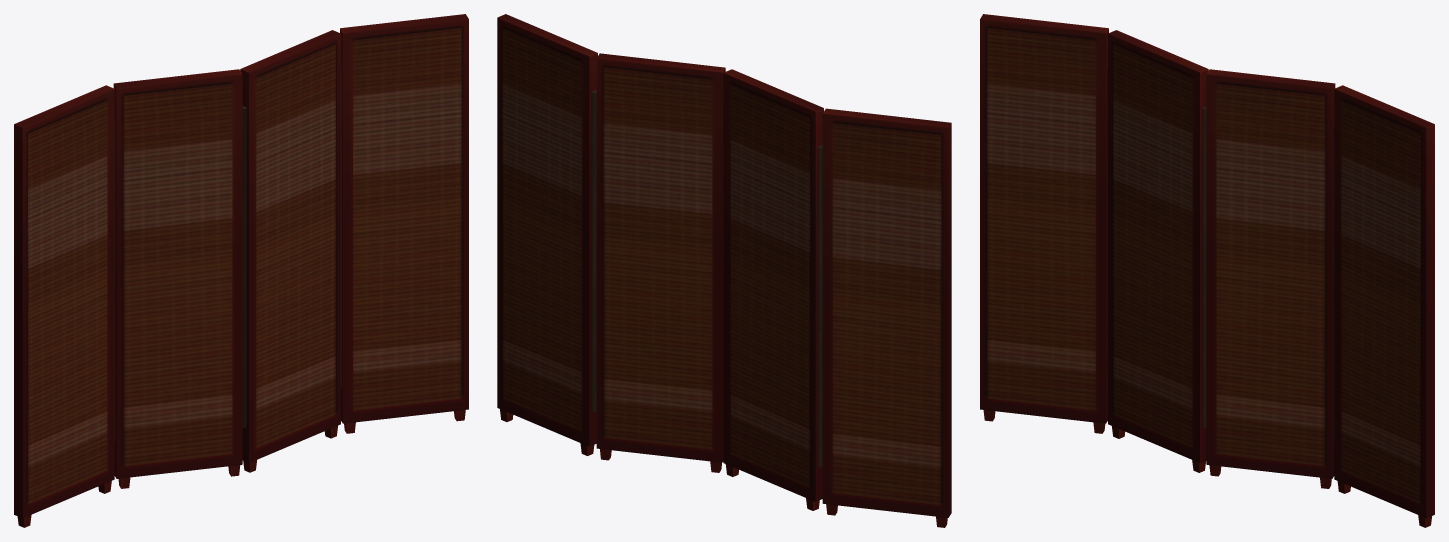
The model's file is daliang_field_a_s05d.fbx.
The picture shows the model from 3 angles, left to right: view 1: azimuth 30°, elevation 25°; view 2: azimuth 150°, elevation 25°; view 3: azimuth 330°, elevation 25°; orthographic projection.
Parts seen in each view (by area): view 1: daliang_field_a_s05d; view 2: daliang_field_a_s05d; view 3: daliang_field_a_s05d.
Part boxes in pixels (bbox=[...]): daliang_field_a_s05d: bbox=[14, 14, 468, 527]; daliang_field_a_s05d: bbox=[497, 14, 951, 527]; daliang_field_a_s05d: bbox=[980, 14, 1434, 527].
Bounding box in the file's own units: 326 × 277 × 28.75.
